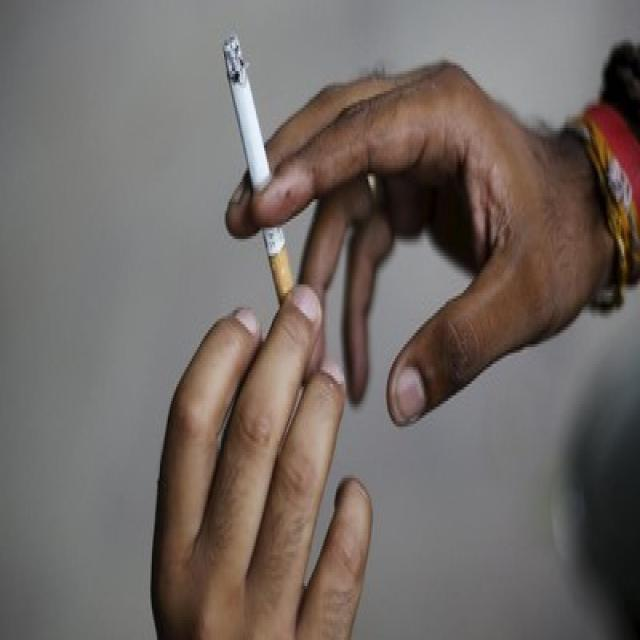rokok: (223, 35, 295, 292)
